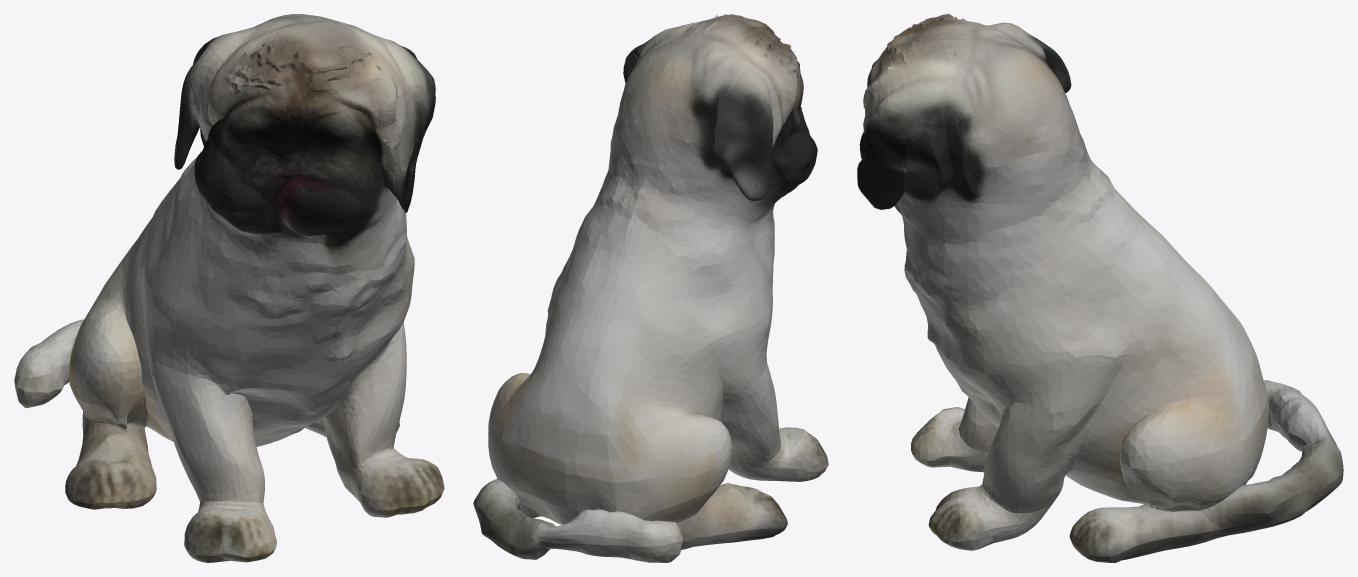
The picture shows the model from 3 angles, left to right: view 1: azimuth 30°, elevation 25°; view 2: azimuth 150°, elevation 25°; view 3: azimuth 270°, elevation 25°; orthographic projection. The views are drawn at different scales.
Parts seen in each view (by area): view 1: world; view 2: world; view 3: world.
Boxes of the visible parts, x1,y1,x2,y2 form: world: (14,14,444,562); world: (473,14,828,562); world: (857,14,1343,562).
Bounding box in the file's own units: 0.6735 × 0.9956 × 0.9467.
Materials: 1 (1 with a texture image).
